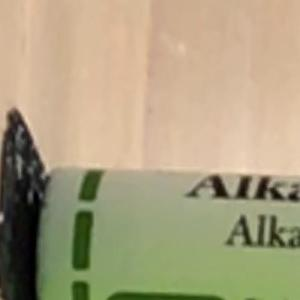keyword: (176, 166, 262, 209)
